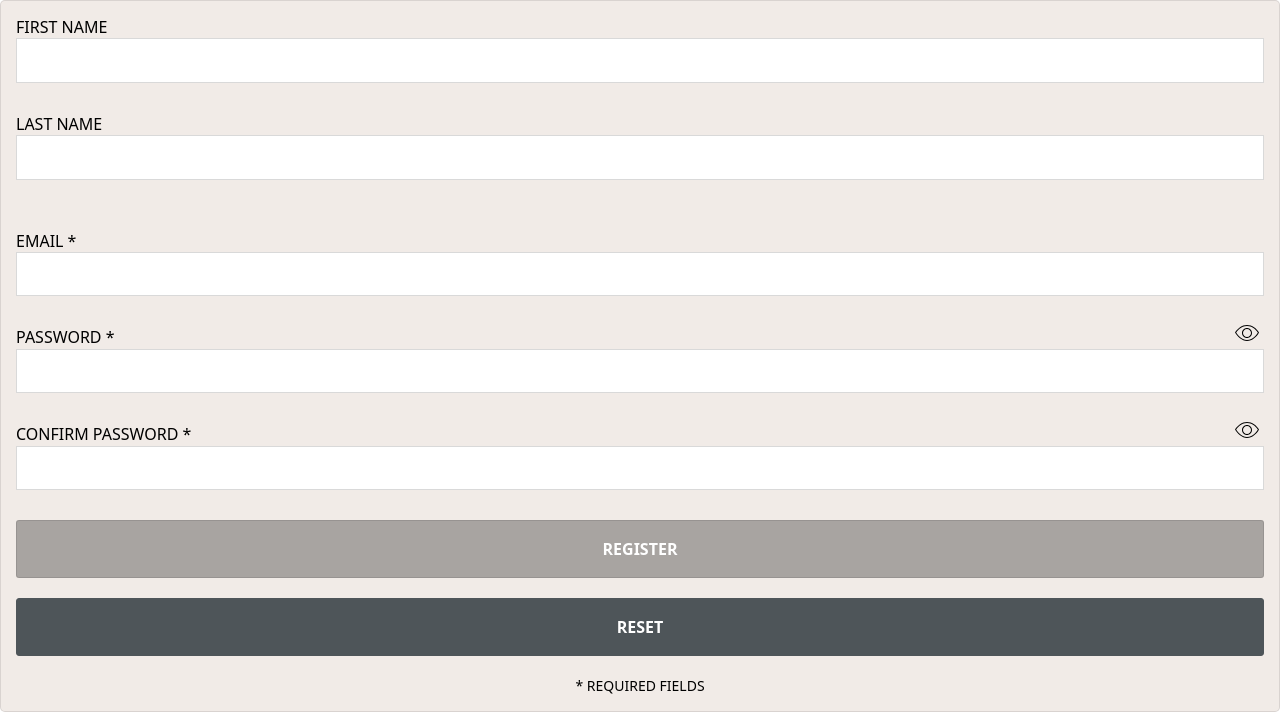
RegistrationForm › input validations › first name › invalid characters
The image size is (1280, 720).
Type "!invalid text value" into the field labelled "first name" at (640, 61), box [16, 38, 1264, 83]
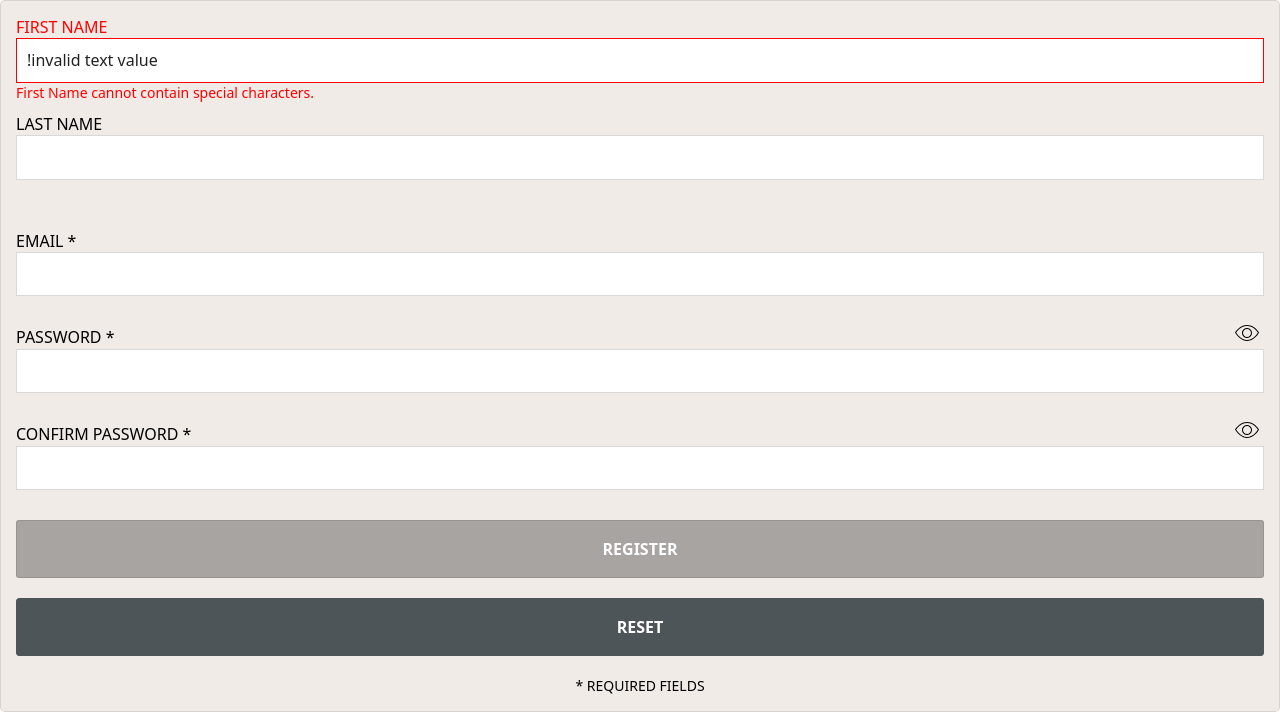
Expected: the text "First Name cannot contain special characters." is shown, [16, 83, 314, 103]
